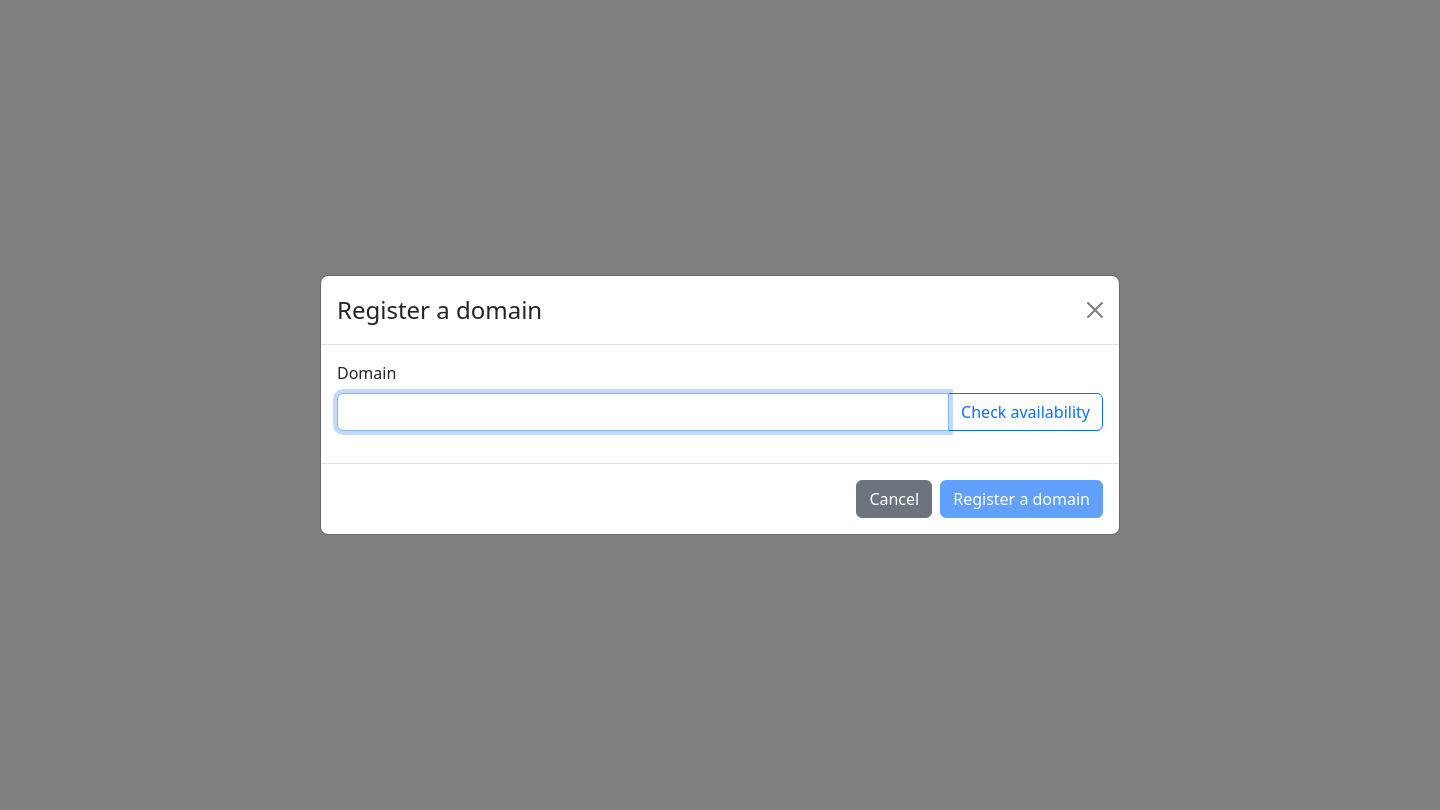
Test: RegisterDialog › explains a failed check
Later steps or results of the test are not shown.
Type "a.zz" into the field labelled "Domain". click: (643, 412)
box: [337,393,949,431]
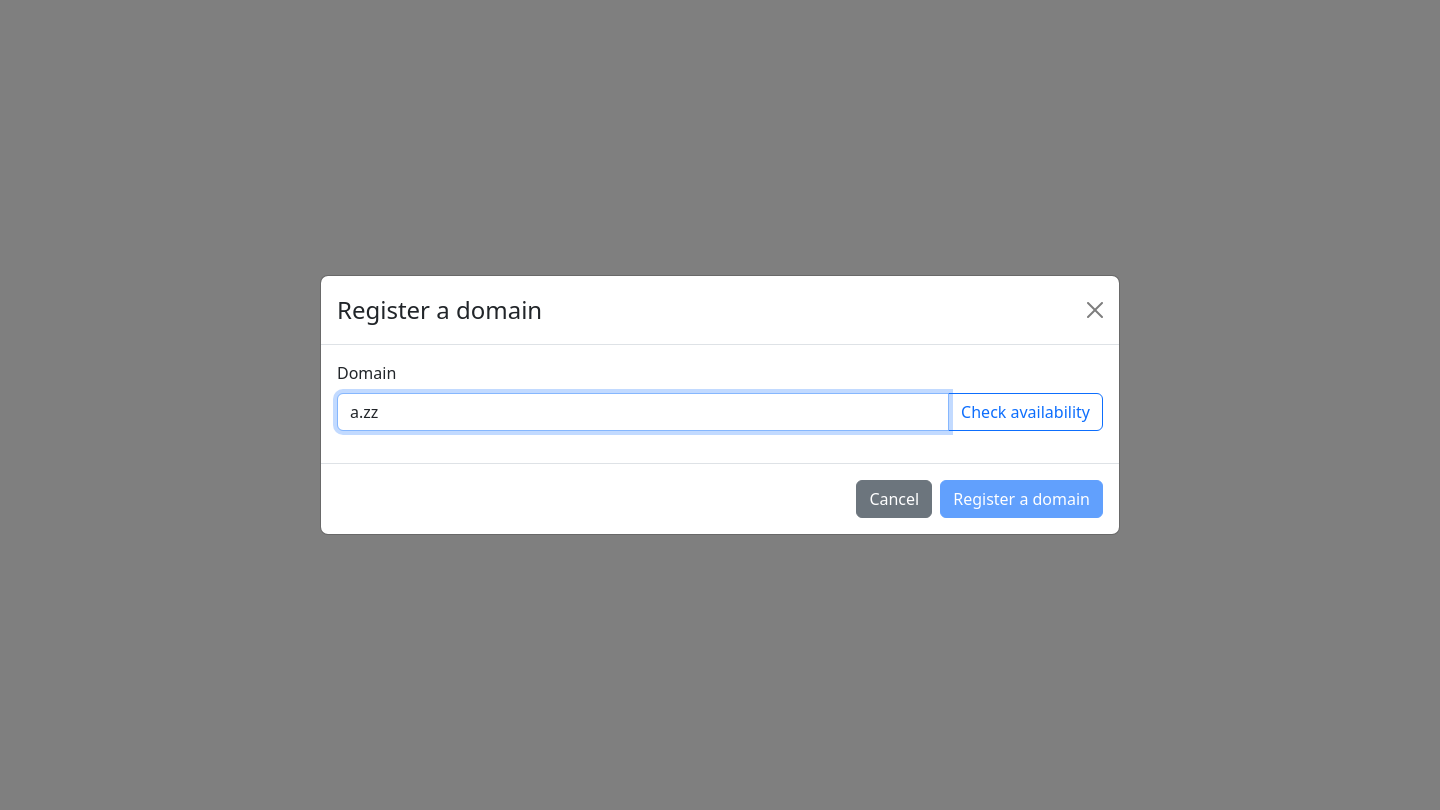
Click the button "Check availability". click: (1026, 412)
box: [948,393,1103,431]
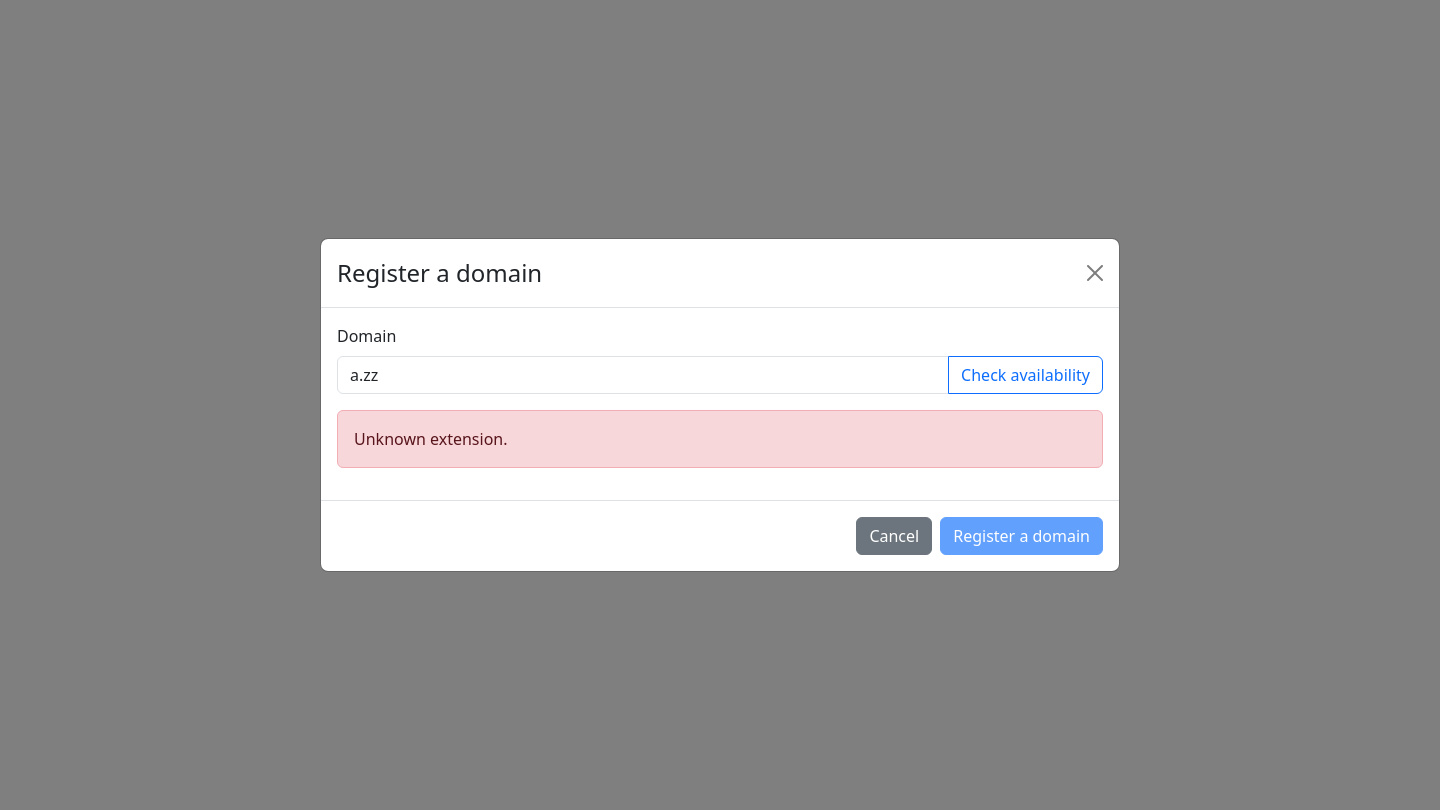
Check: the text "Unknown extension." is shown, box [337,410,1103,468]
Click the button "Check availability". click: (1026, 375)
box: [948,356,1103,394]
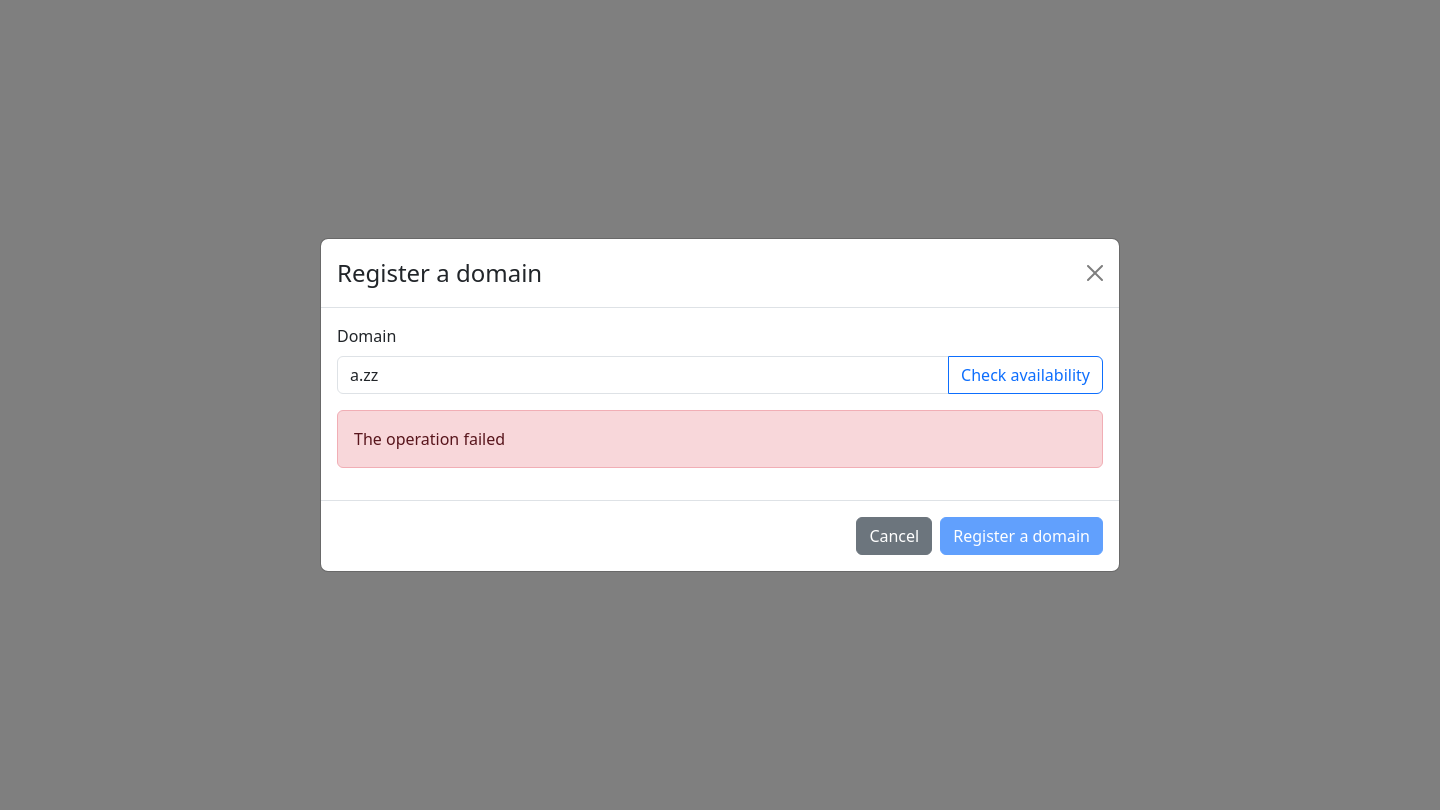
Check: the text "The operation failed" is shown, box [337,410,1103,468]
